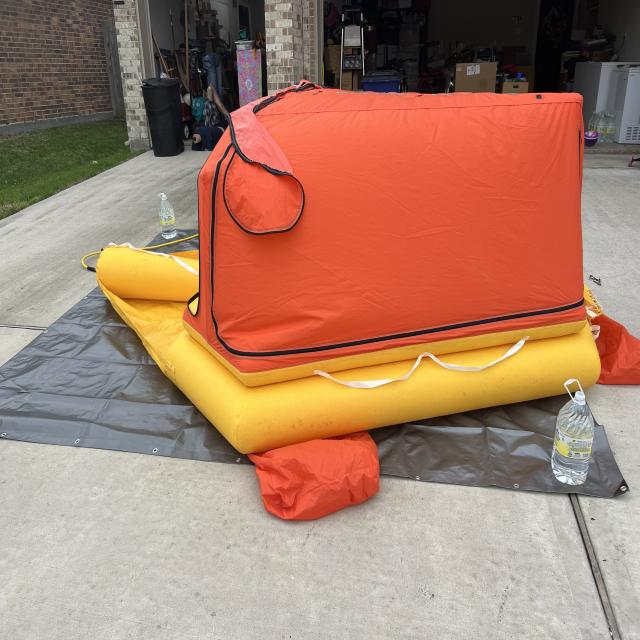Multi-person_life_raft: (97, 78, 640, 522)
